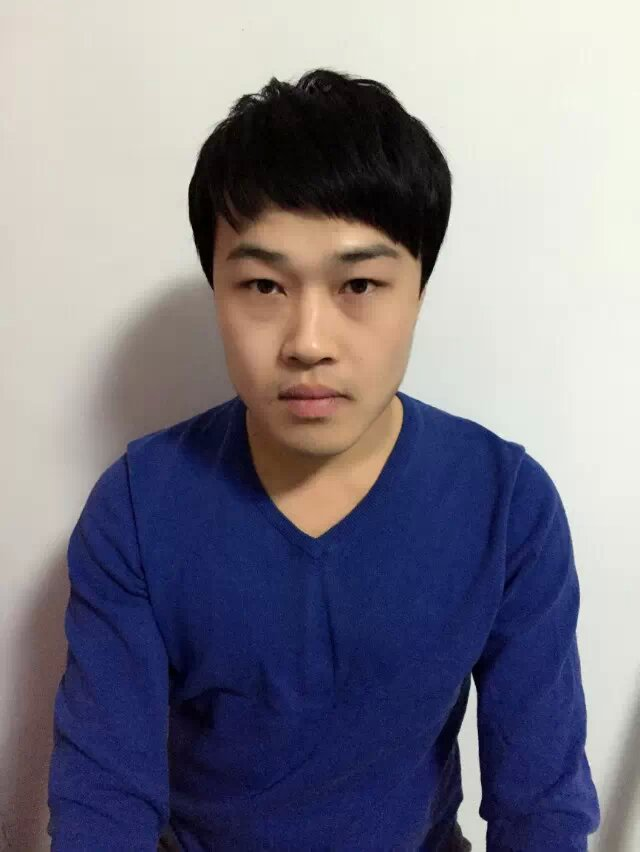unmask: (206, 205, 428, 444)
